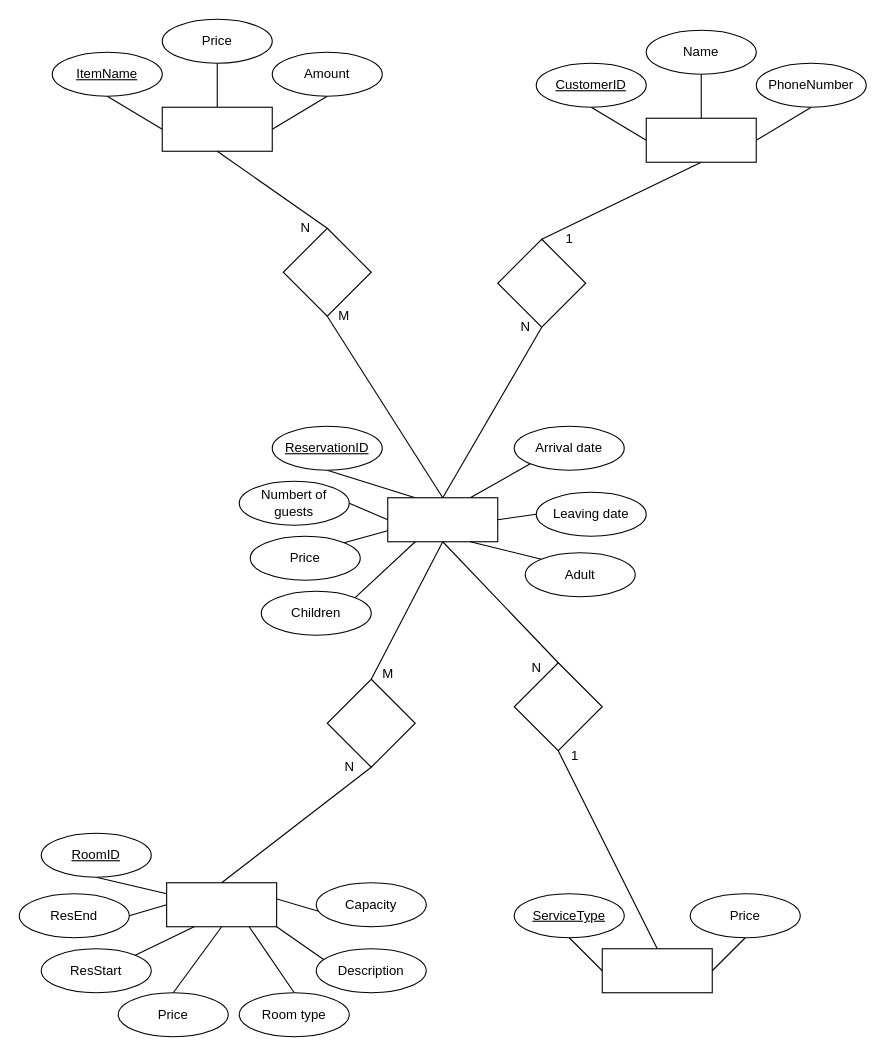
Some shapes in this 886 by 1056 pixel diagram are drawn without their labels. Here are the shapes that lost their labels. From the top down, the centre of each, then its label:
point (216, 128): Consumption
point (700, 139): Customer
point (442, 519): Reservation
point (221, 904): Room
point (656, 970): Service Type
